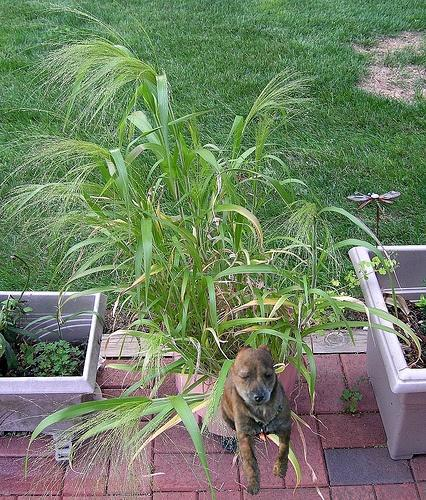tampered: (221, 345, 291, 495)
